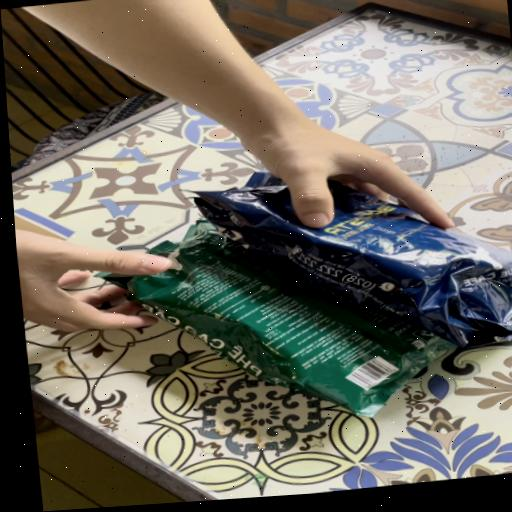cafe_hat: (195, 182, 512, 346)
cafe_xay: (97, 220, 428, 416)
